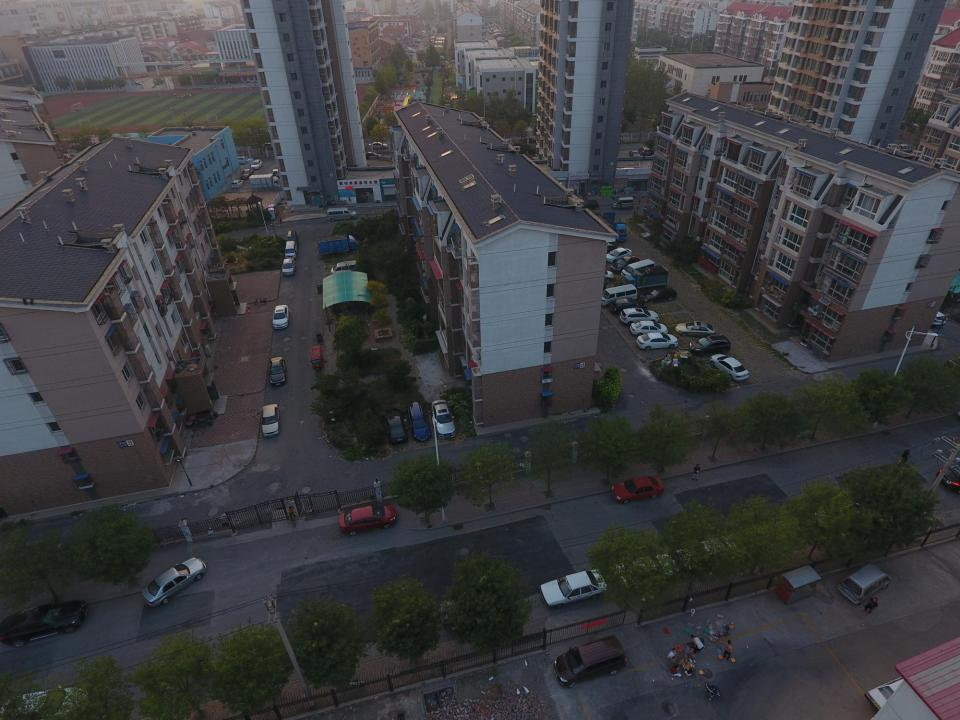car: (1, 599, 88, 647), (141, 556, 207, 608), (866, 668, 930, 714), (441, 592, 511, 629), (610, 551, 680, 588), (674, 536, 744, 573), (539, 570, 610, 606), (339, 505, 397, 535), (610, 476, 664, 504), (710, 352, 749, 382), (407, 400, 431, 441), (431, 399, 456, 438), (914, 300, 946, 328), (384, 408, 408, 443), (689, 335, 731, 355), (636, 332, 678, 350), (620, 307, 659, 325), (260, 405, 281, 437), (938, 458, 960, 488), (675, 321, 717, 336), (630, 320, 667, 336), (268, 357, 288, 386), (610, 298, 646, 312), (611, 256, 640, 273), (585, 266, 615, 282), (645, 288, 677, 302), (606, 247, 632, 264), (271, 305, 289, 329), (577, 198, 599, 212), (280, 258, 296, 276), (596, 239, 616, 253), (361, 150, 382, 160), (233, 155, 252, 165), (286, 230, 298, 245), (368, 140, 388, 148), (240, 168, 254, 178), (521, 135, 536, 144), (251, 160, 263, 170), (232, 179, 244, 189), (269, 170, 284, 178), (639, 147, 651, 157), (629, 150, 640, 160)
truck: (619, 268, 667, 293), (318, 233, 360, 257), (602, 211, 629, 243), (250, 174, 281, 190)
van: (554, 635, 627, 689), (838, 562, 890, 606), (600, 284, 638, 305), (623, 258, 656, 281), (326, 207, 357, 222), (329, 261, 360, 276), (612, 197, 635, 210), (284, 240, 298, 258)
